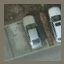car: (24, 12, 41, 51)
